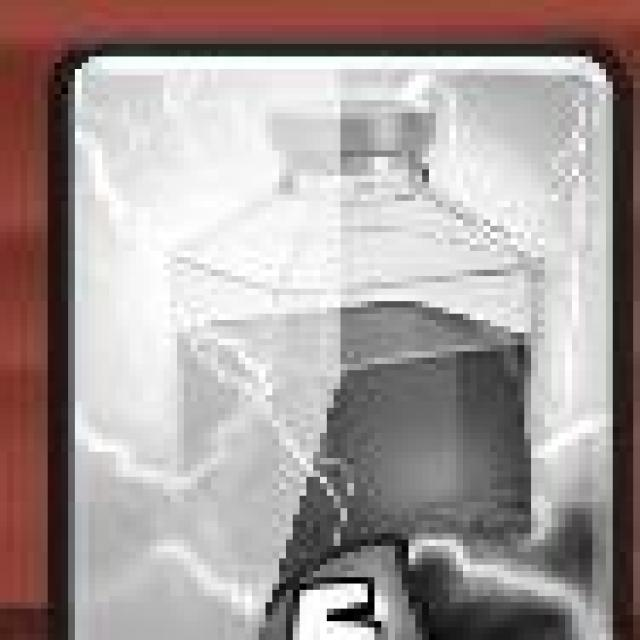Lightning: (47, 39, 618, 640)
